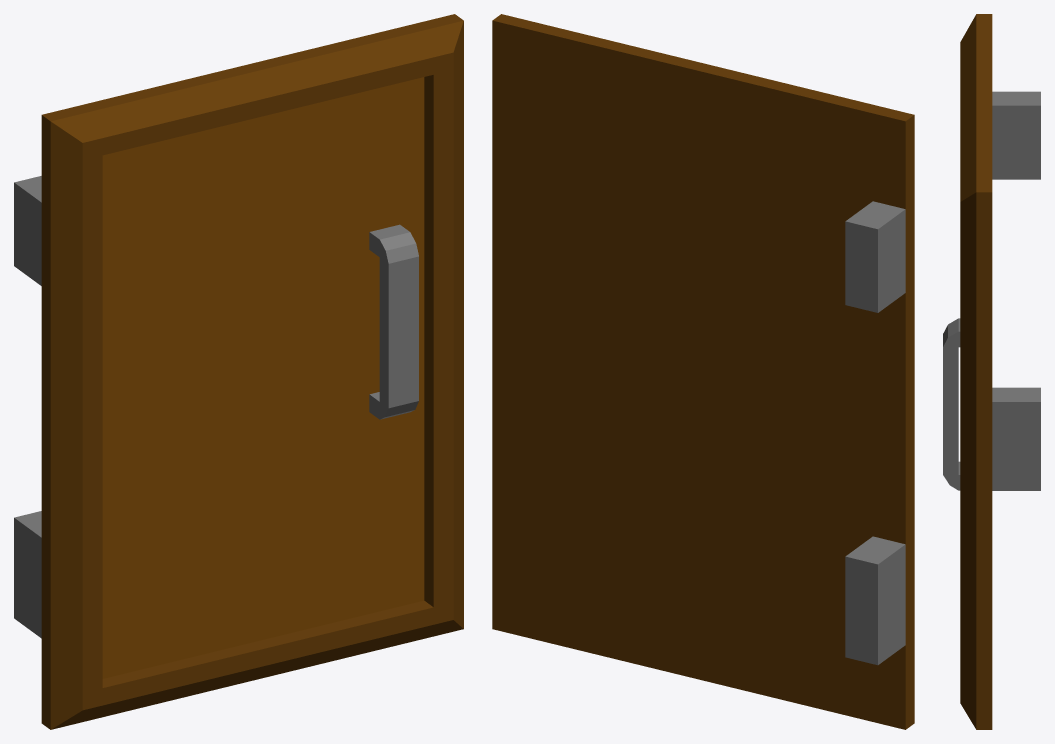
The model's file is High_Cupboard_1_Door_Left.fbx.
3 renders of one model, left to right at view 1: azimuth 30°, elevation 25°; view 2: azimuth 150°, elevation 25°; view 3: azimuth 270°, elevation 25°, orthographic. The views are drawn at different scales.
Visible parts, largest first — view 1: Cube.180; view 2: Cube.180; view 3: Cube.180.
Part boxes in pixels (<box>): Cube.180: <box>14,14,463,729</box>; Cube.180: <box>492,14,914,729</box>; Cube.180: <box>943,14,1040,729</box>.
Bounding box in the file's own units: 48.92 × 68.85 × 11.37.
